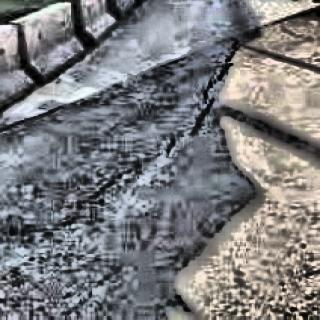crack: (55, 151, 165, 221), (181, 36, 251, 140)
